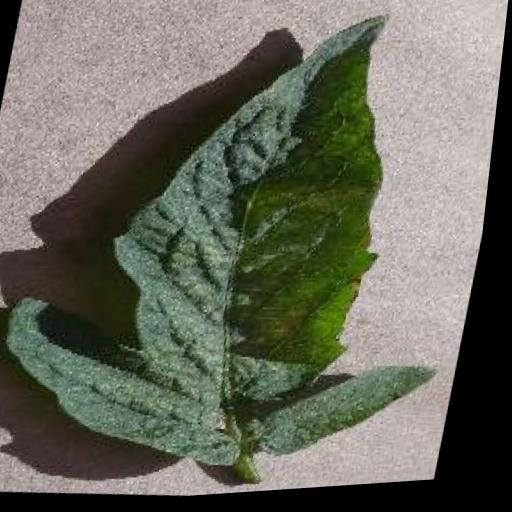Spider Mites: (0, 0, 509, 502)
